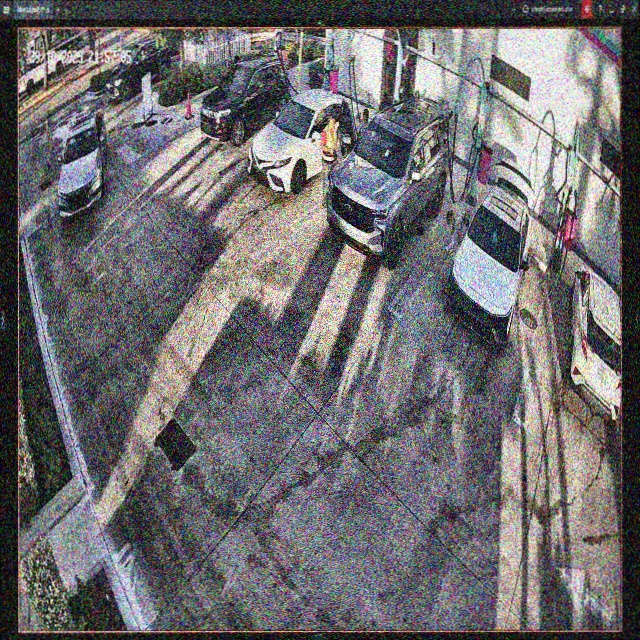Car: (329, 99, 449, 268), (452, 164, 531, 346), (247, 90, 359, 191), (201, 51, 291, 149)
